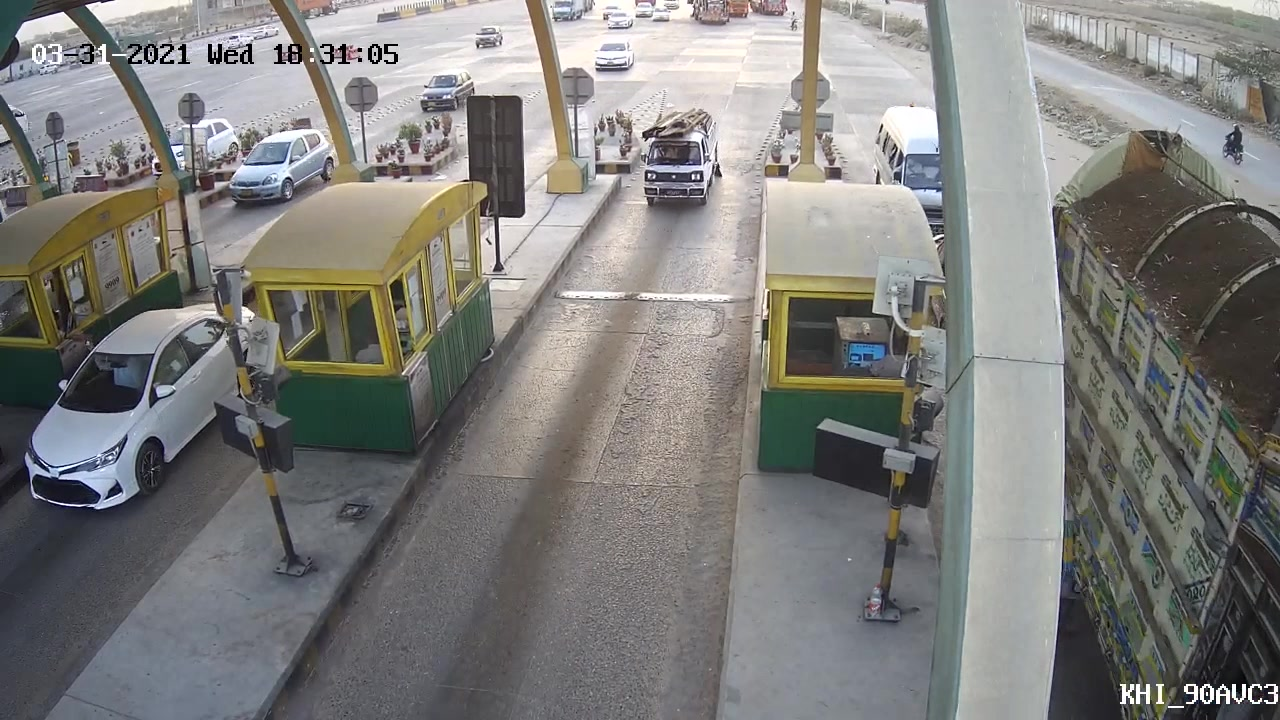F2: (626, 108, 734, 211)
